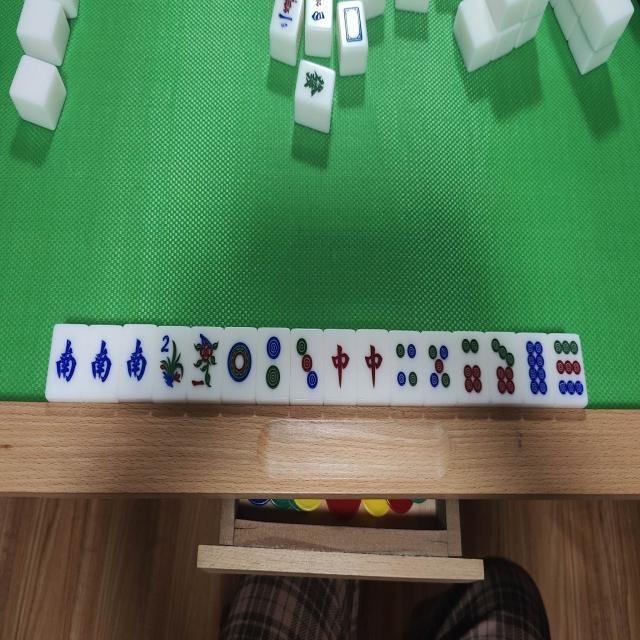bf2: (156, 328, 184, 398)
bs1: (188, 327, 222, 398)
hdr: (358, 331, 389, 403), (325, 330, 356, 402)
hws: (50, 325, 82, 398), (86, 328, 116, 398), (122, 327, 150, 397)
sb1: (225, 329, 255, 400)
sb2: (258, 328, 289, 401)
sb3: (292, 330, 323, 402)
sd4: (390, 332, 422, 402)
sd5: (424, 333, 455, 403)
sd6: (458, 332, 486, 402)
sd7: (489, 334, 517, 404)
sd8: (520, 334, 550, 404)
sd9: (552, 335, 584, 403)
